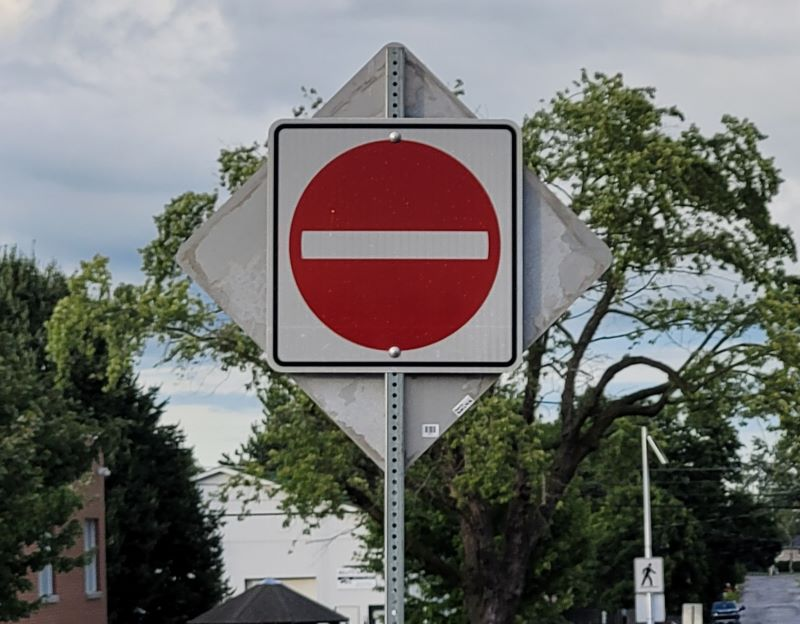sign_noentry: (268, 118, 522, 372)
